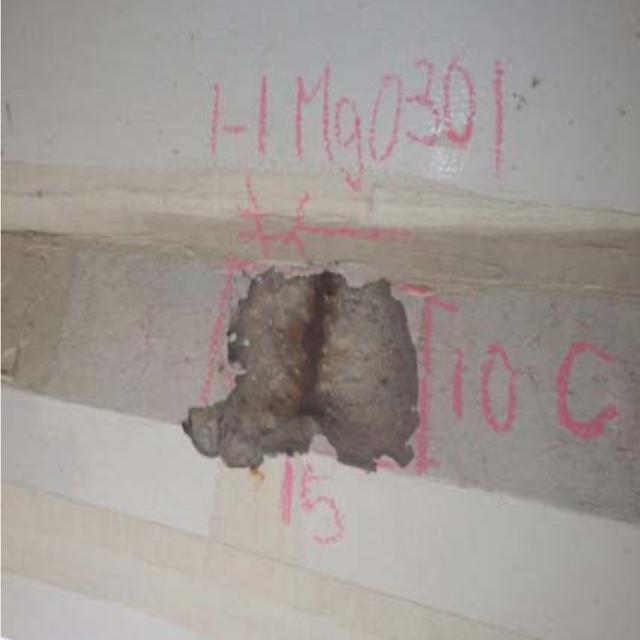spalling: (167, 256, 430, 480)
